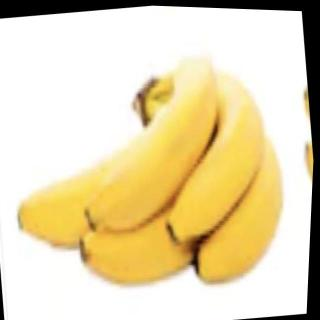banana: (2, 89, 208, 263), (68, 48, 234, 240), (67, 120, 235, 294), (148, 61, 280, 251), (178, 109, 300, 291)
